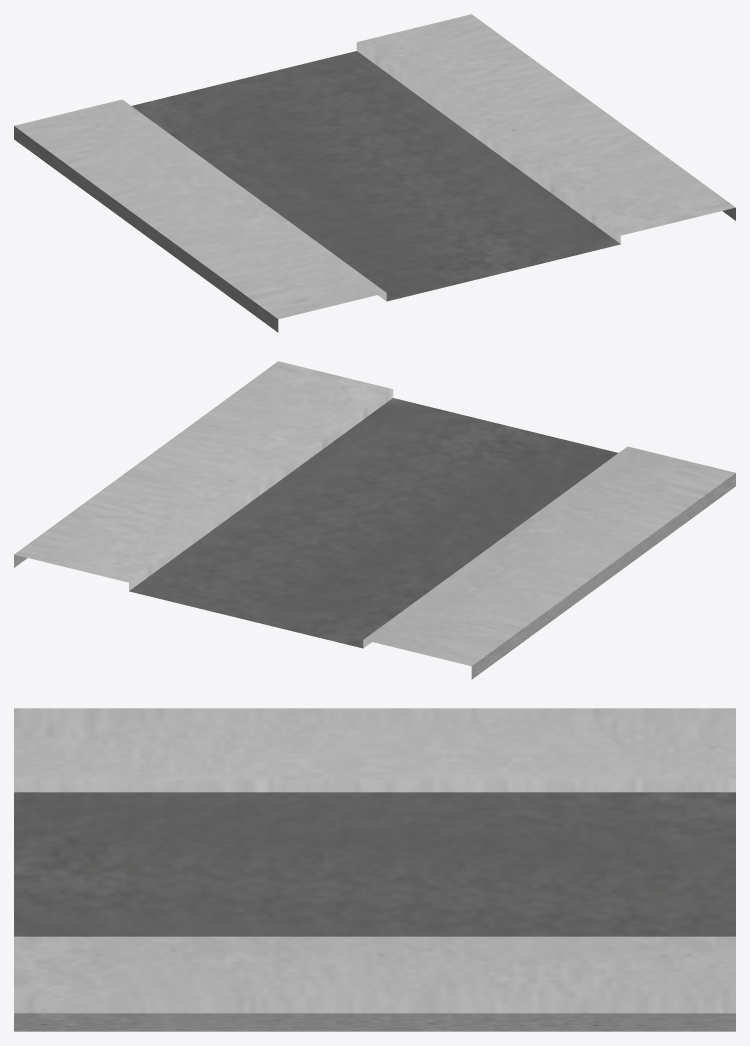
File: RoadStraight.fbx
3 renders of one model, top to bottom at view 1: azimuth 30°, elevation 25°; view 2: azimuth 150°, elevation 25°; view 3: azimuth 270°, elevation 25°, orthographic. The views are drawn at different scales.
Parts seen in each view (by area): view 1: pCube3; view 2: pCube3; view 3: pCube3.
Part boxes in pixels (<box>): pCube3: <box>14,14,735,332</box>; pCube3: <box>14,361,735,679</box>; pCube3: <box>14,708,735,1031</box>.
Bounding box in the file's own units: 24.07 × 0.6789 × 24.07.
2 materials, 2 textured.
